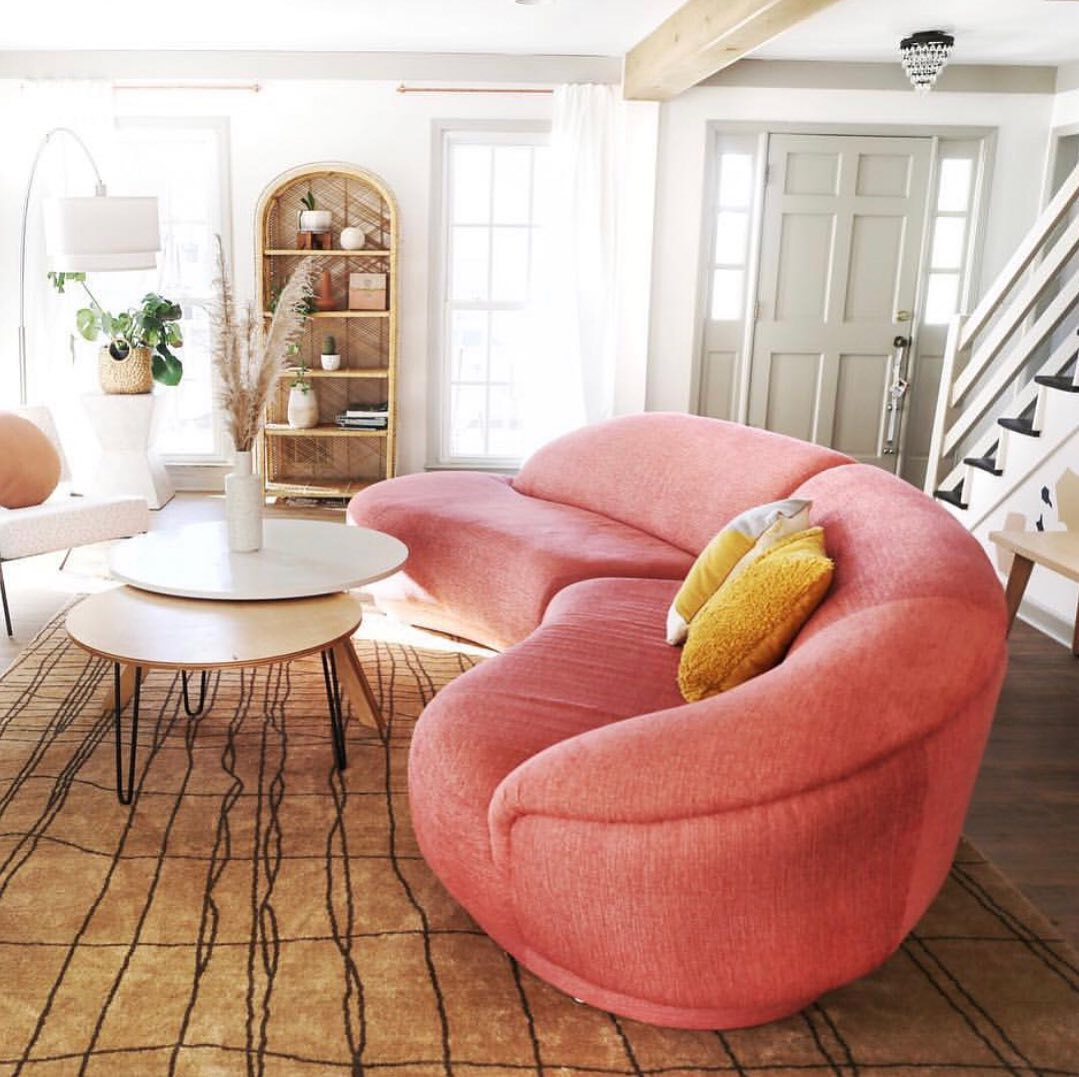coklat: (1, 416, 59, 506)
kuning: (681, 527, 825, 693)
pink: (435, 413, 999, 1035)
putih: (43, 194, 162, 274), (85, 393, 166, 500), (224, 454, 268, 550), (299, 210, 332, 231), (337, 228, 364, 248)
